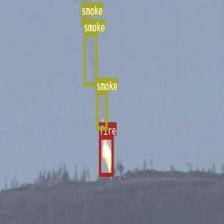fire: (99, 135, 113, 176)
smoke: (83, 32, 97, 86), (96, 91, 107, 129), (81, 2, 88, 24)
